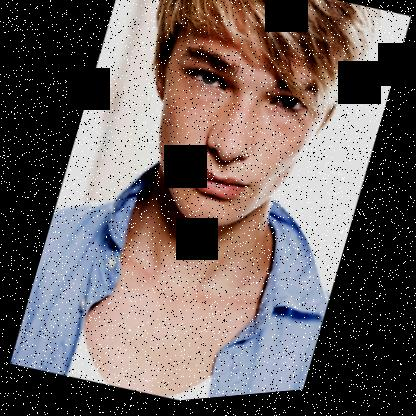Male: (114, 12, 352, 263)
